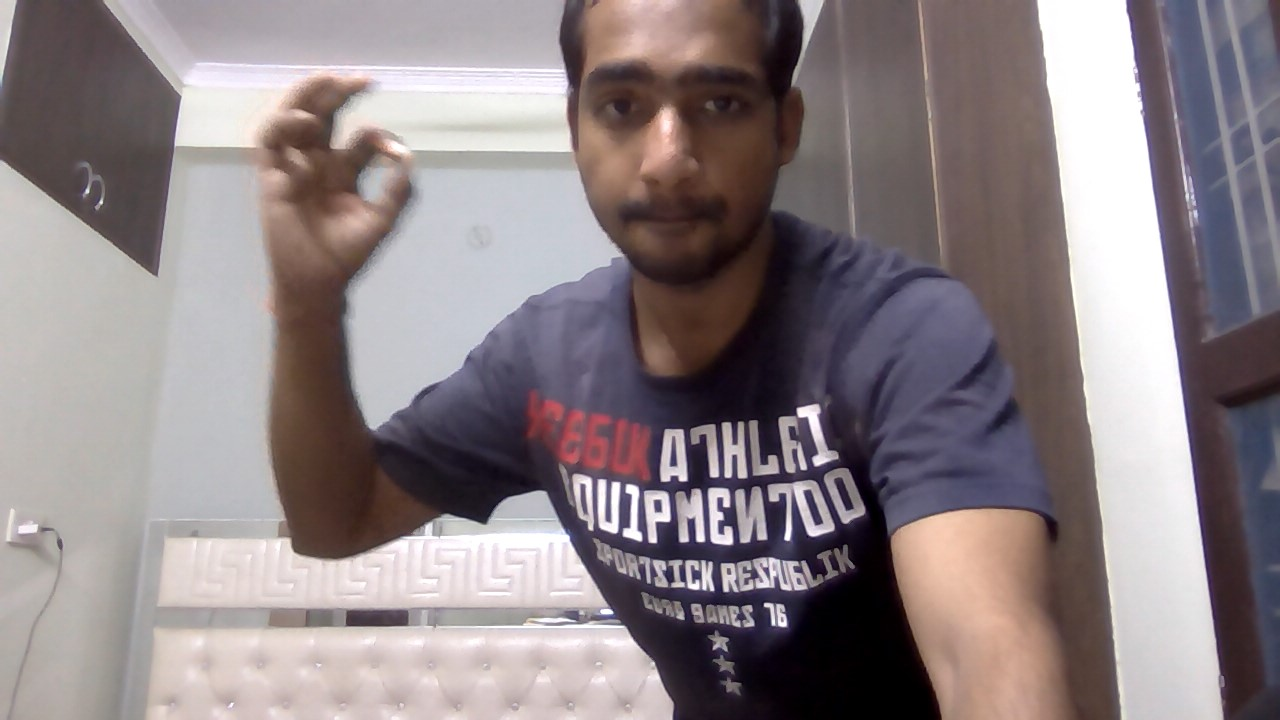Copy: (246, 61, 427, 306)
